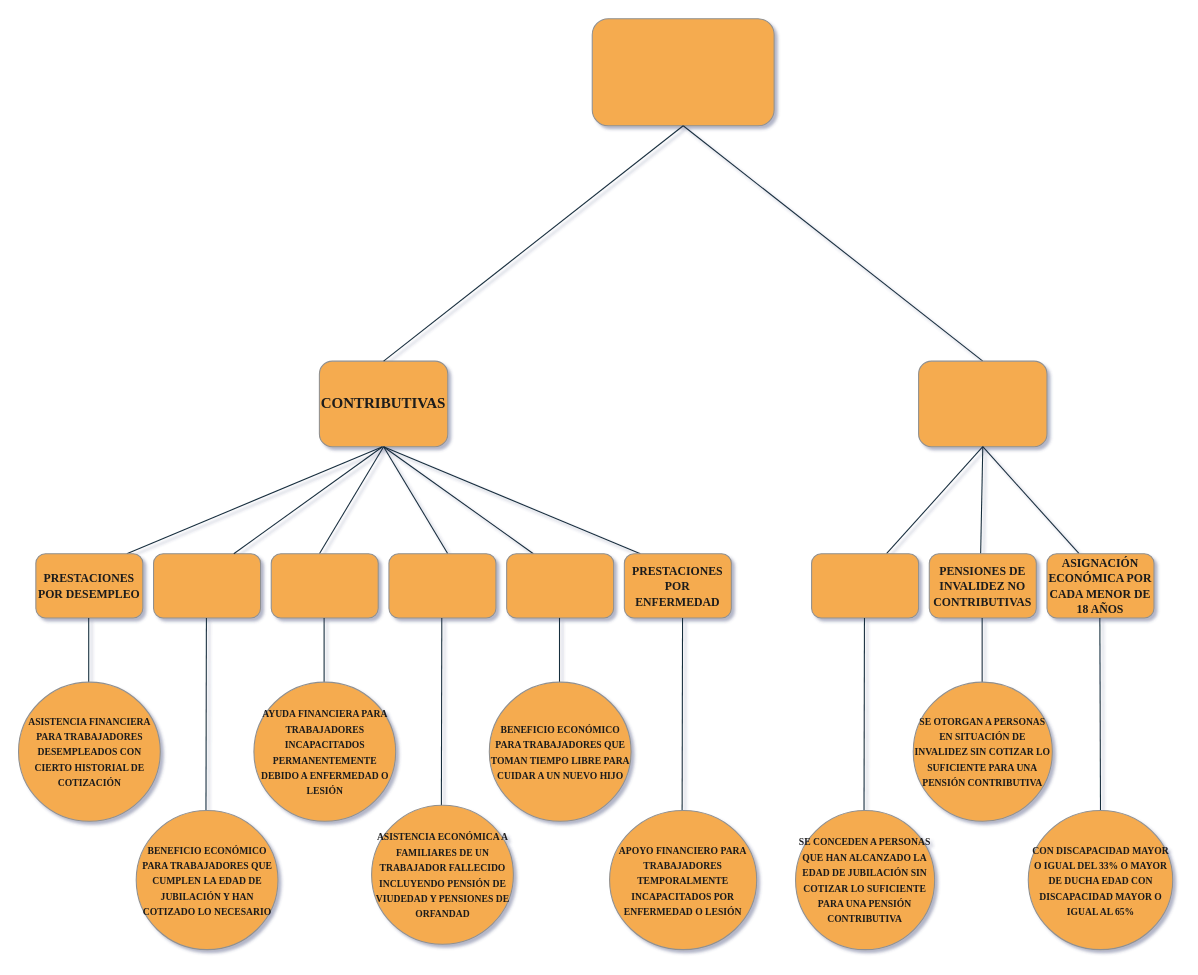
Image size: 1198x975. Some labels were removed from this diagram. Here are the shapes that lost their labels. From the top down, the centre of each, then its label:
(x=682, y=72): PRESTACIONES
(x=982, y=403): NO CONTRIBUTIVAS
(x=206, y=585): PENSIONES DE JUBILACIÓN
(x=324, y=585): PRESTACIONES POR INCAPACIDAD PERMANENTE
(x=442, y=585): PRESTACIONES POR MUERTE Y SUPERVIVENCIA
(x=560, y=585): PRESTACIONES POR MATERNIDAD Y PATERNIDAD
(x=865, y=585): PENSIONES DE JUBILACION NO CONTRIBUTIVAS
